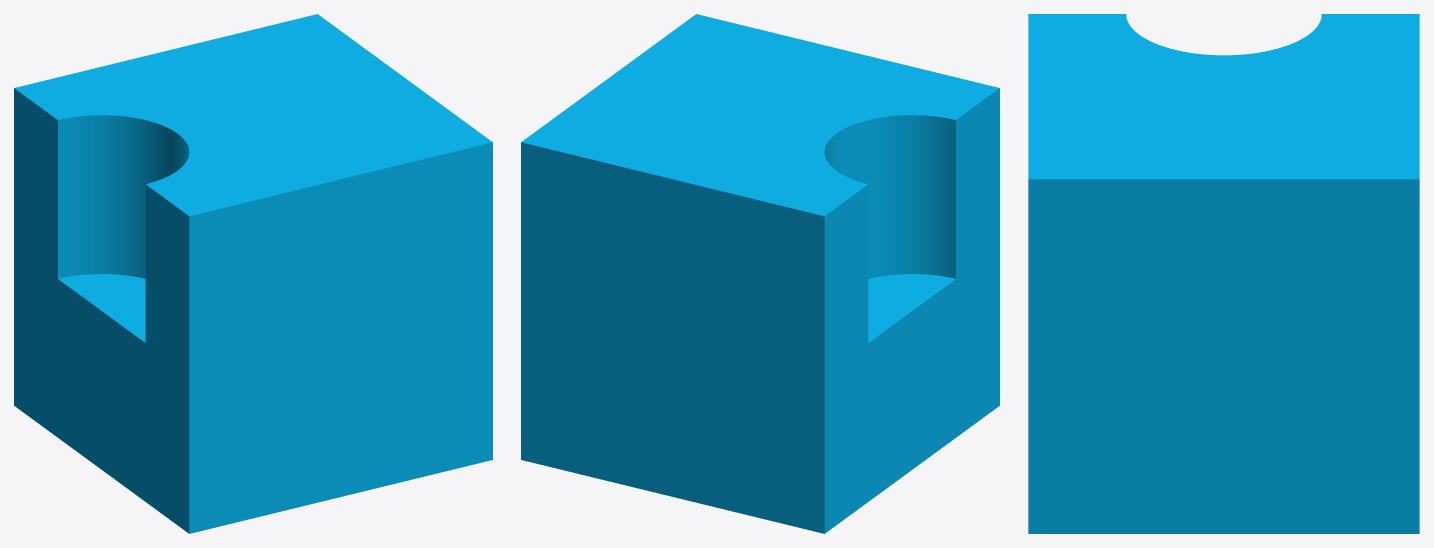
File: cut_and_cutThruAll.gltf
3 views of the same model, side by side, from view 1: azimuth 30°, elevation 25°; view 2: azimuth 150°, elevation 25°; view 3: azimuth 270°, elevation 25° (orthographic). The views are drawn at different scales.
Parts seen in each view (by area): view 1: Gövde; view 2: Gövde; view 3: Gövde.
Part boxes in pixels (x1,y1,x2,y2): Gövde: (14,14,492,533); Gövde: (521,14,999,533); Gövde: (1028,14,1419,533).
Size of the model in its own units: 0.02 by 0.02 by 0.02.
